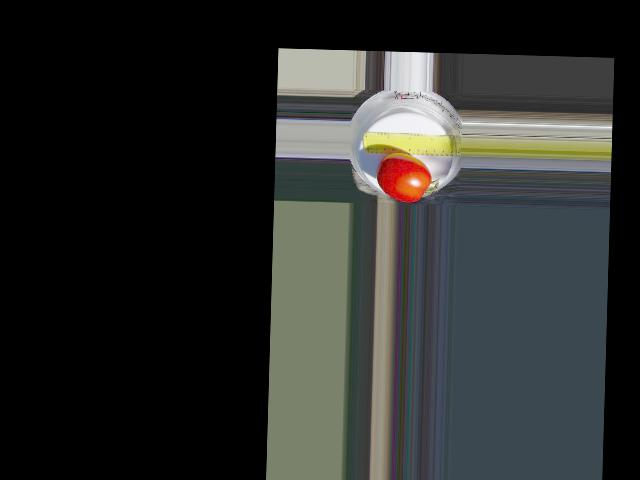tomato: (376, 151, 432, 203)
